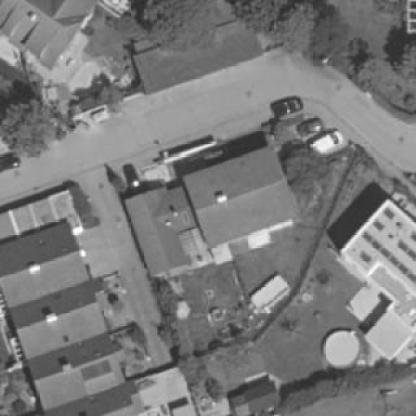solar-pv-panel: (362, 232, 416, 284), (80, 359, 112, 380), (395, 239, 416, 262), (373, 219, 385, 233), (361, 251, 373, 265), (383, 207, 395, 220), (409, 232, 416, 243)
